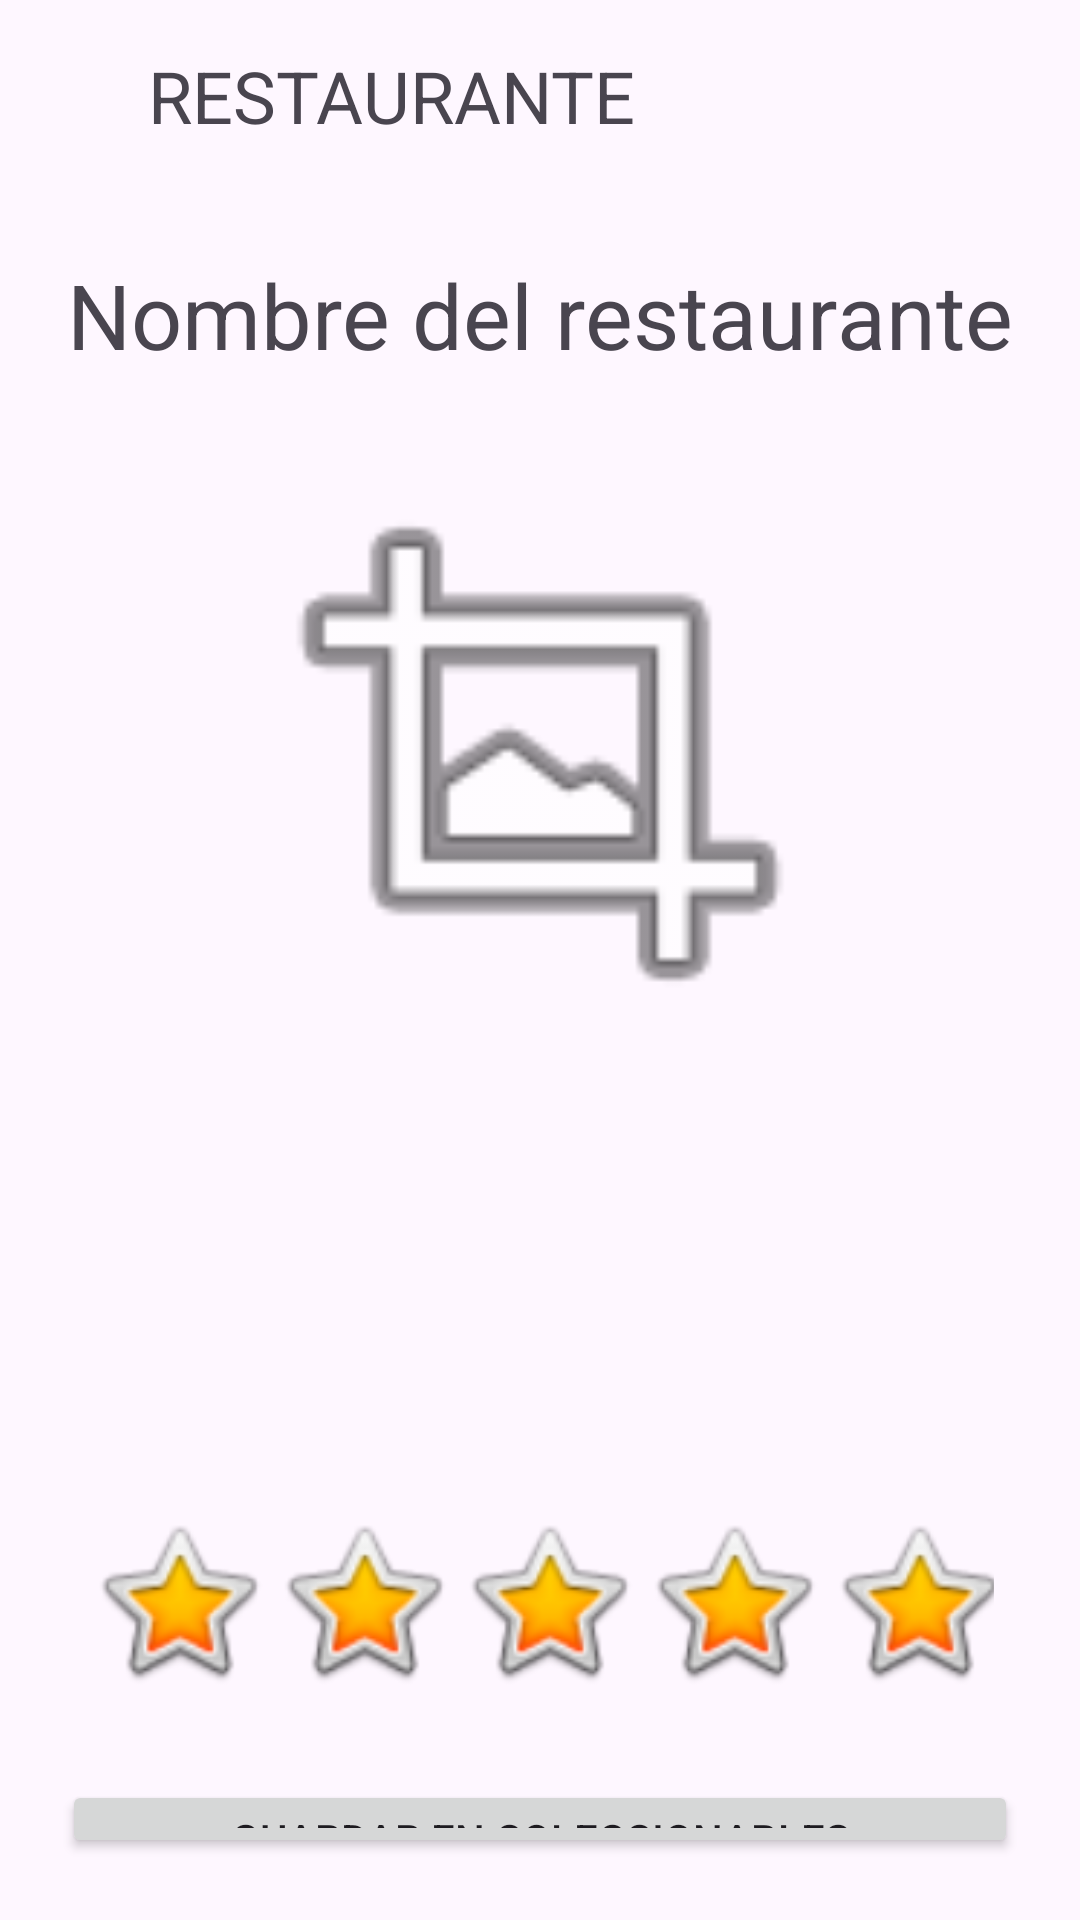

Where to tap for icons on this 1080*1920 app screen, as (x,y):
star on: (180,1603), (365,1603), (550,1603), (735,1603), (918,1603)
